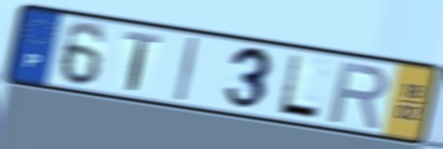3: (223, 43, 276, 113)
6: (60, 20, 108, 88)
I: (173, 34, 201, 104)
L: (275, 52, 323, 122)
R: (326, 58, 392, 131)
T: (122, 28, 164, 94)
